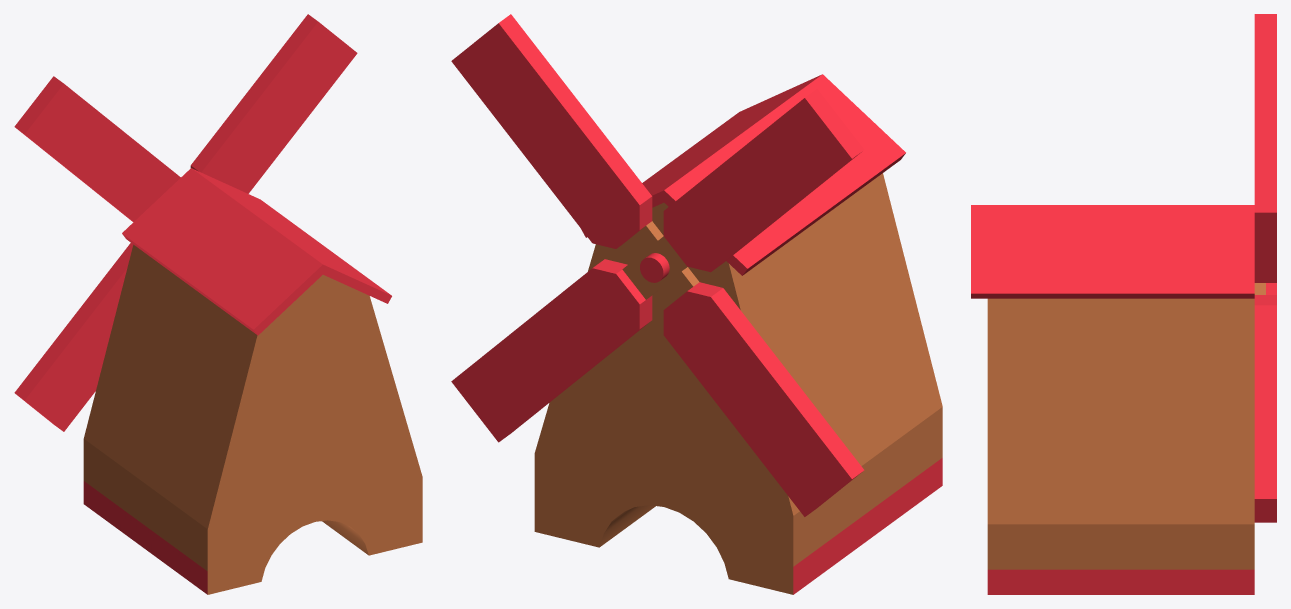
The model's file is Molino.FBX.
3 renders of one model, left to right at view 1: azimuth 30°, elevation 25°; view 2: azimuth 150°, elevation 25°; view 3: azimuth 270°, elevation 25°, orthographic. The views are drawn at different scales.
Parts seen in each view (by area): view 1: windmill, blades; view 2: windmill, blades; view 3: windmill, blades.
Part boxes in pixels (left/top/right/bottom): windmill: left=83, top=168, right=422, bottom=594; blades: left=14, top=14, right=357, bottom=431; windmill: left=534, top=74, right=942, bottom=594; blades: left=451, top=14, right=864, bottom=516; windmill: left=971, top=205, right=1254, bottom=594; blades: left=1254, top=14, right=1276, bottom=522.
Bounding box in the file's own units: 124 × 151 × 91.66.
